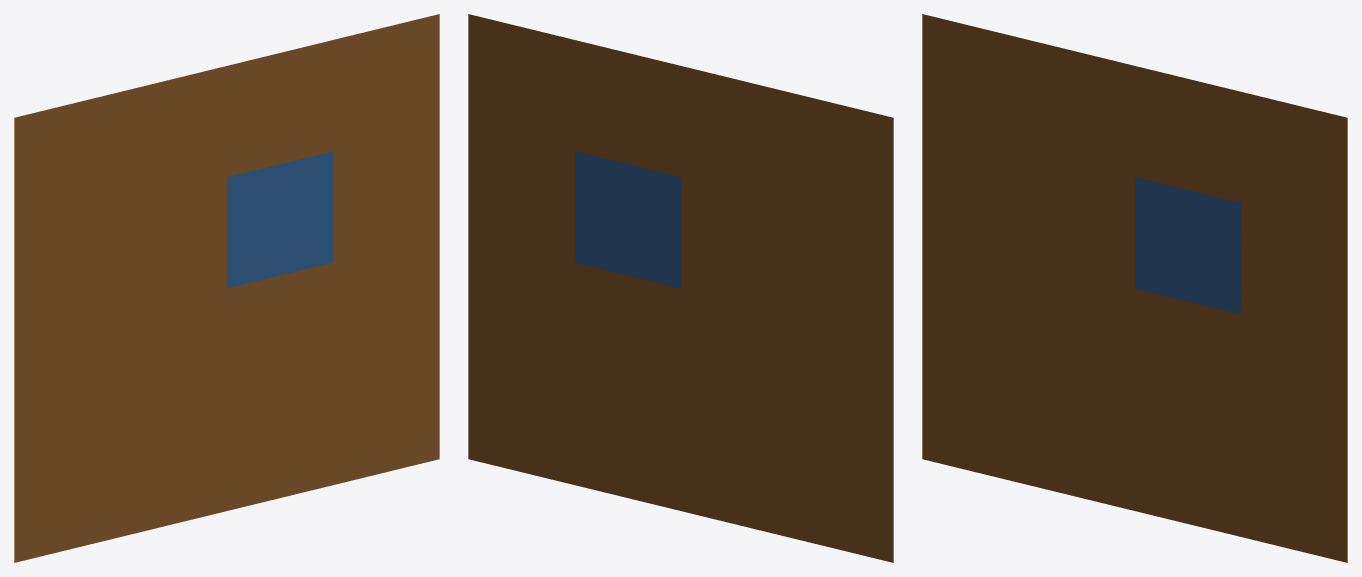
Rendered from texgridbig.obj.
3 renders of one model, left to right at view 1: azimuth 30°, elevation 25°; view 2: azimuth 150°, elevation 25°; view 3: azimuth 330°, elevation 25°, orthographic.
Bounding box in the file's own units: 30 × 30 × 0.
1 material, 1 textured.
